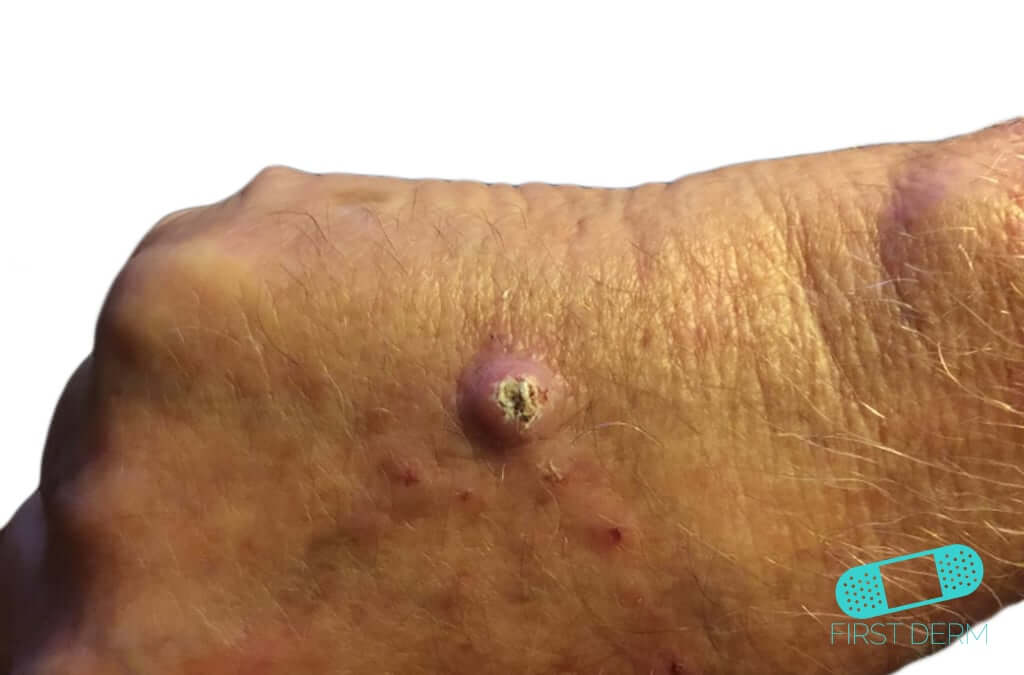Squamous Carcinoma: (453, 338, 585, 445)
